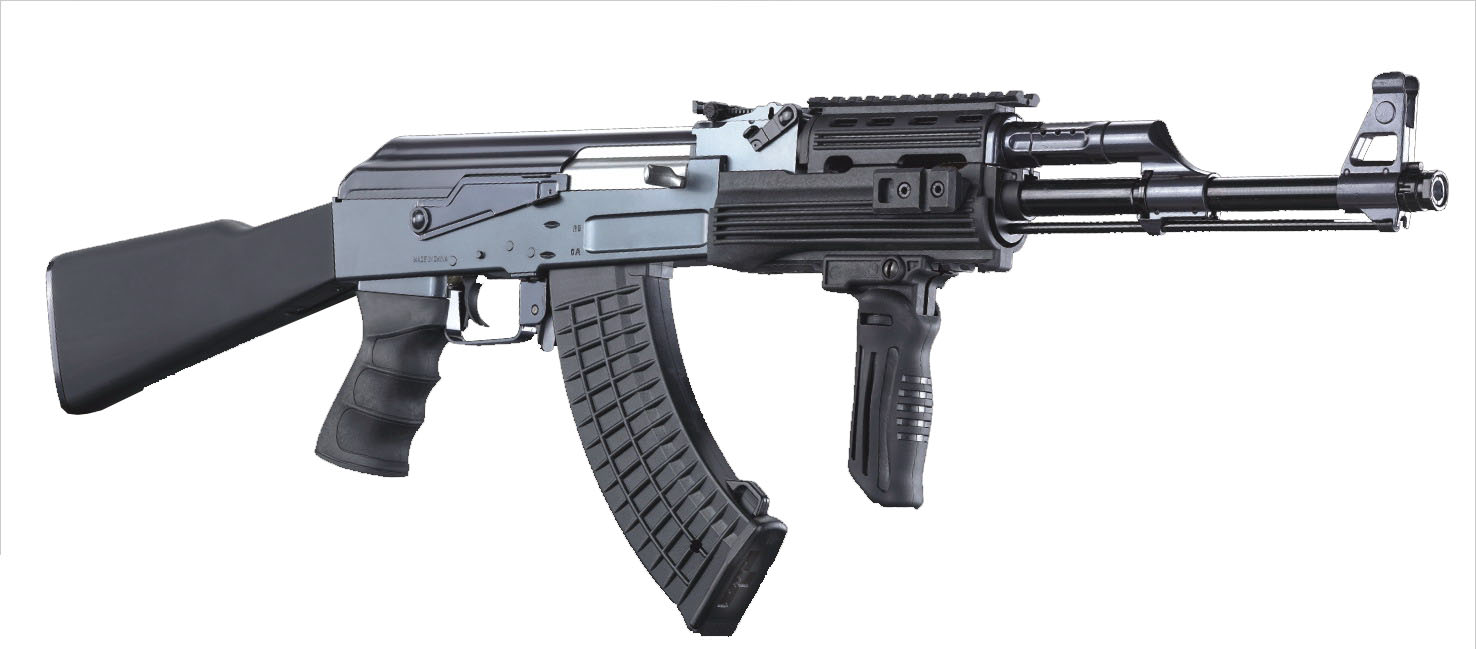gun: (36, 54, 1448, 642)
